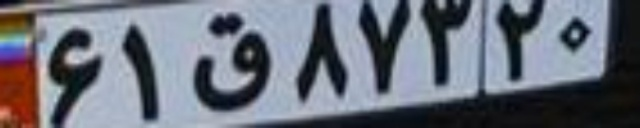0: (557, 16, 593, 51)
1: (118, 22, 162, 121)
2: (495, 0, 544, 80)
3: (417, 0, 477, 86)
6: (40, 27, 103, 126)
7: (357, 1, 410, 93)
8: (295, 2, 347, 100)
ghaf: (188, 11, 274, 110)
